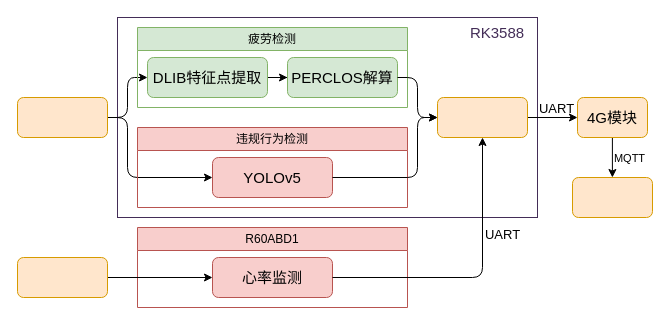
Image size: 670x325. Some labels were removed from this diagram. Each missing label, with the centre of its shape:
JSON格式打包: (482,117)
司机心率: (62,277)
图像输入: (62,117)
阿里云IoT: (612,197)
